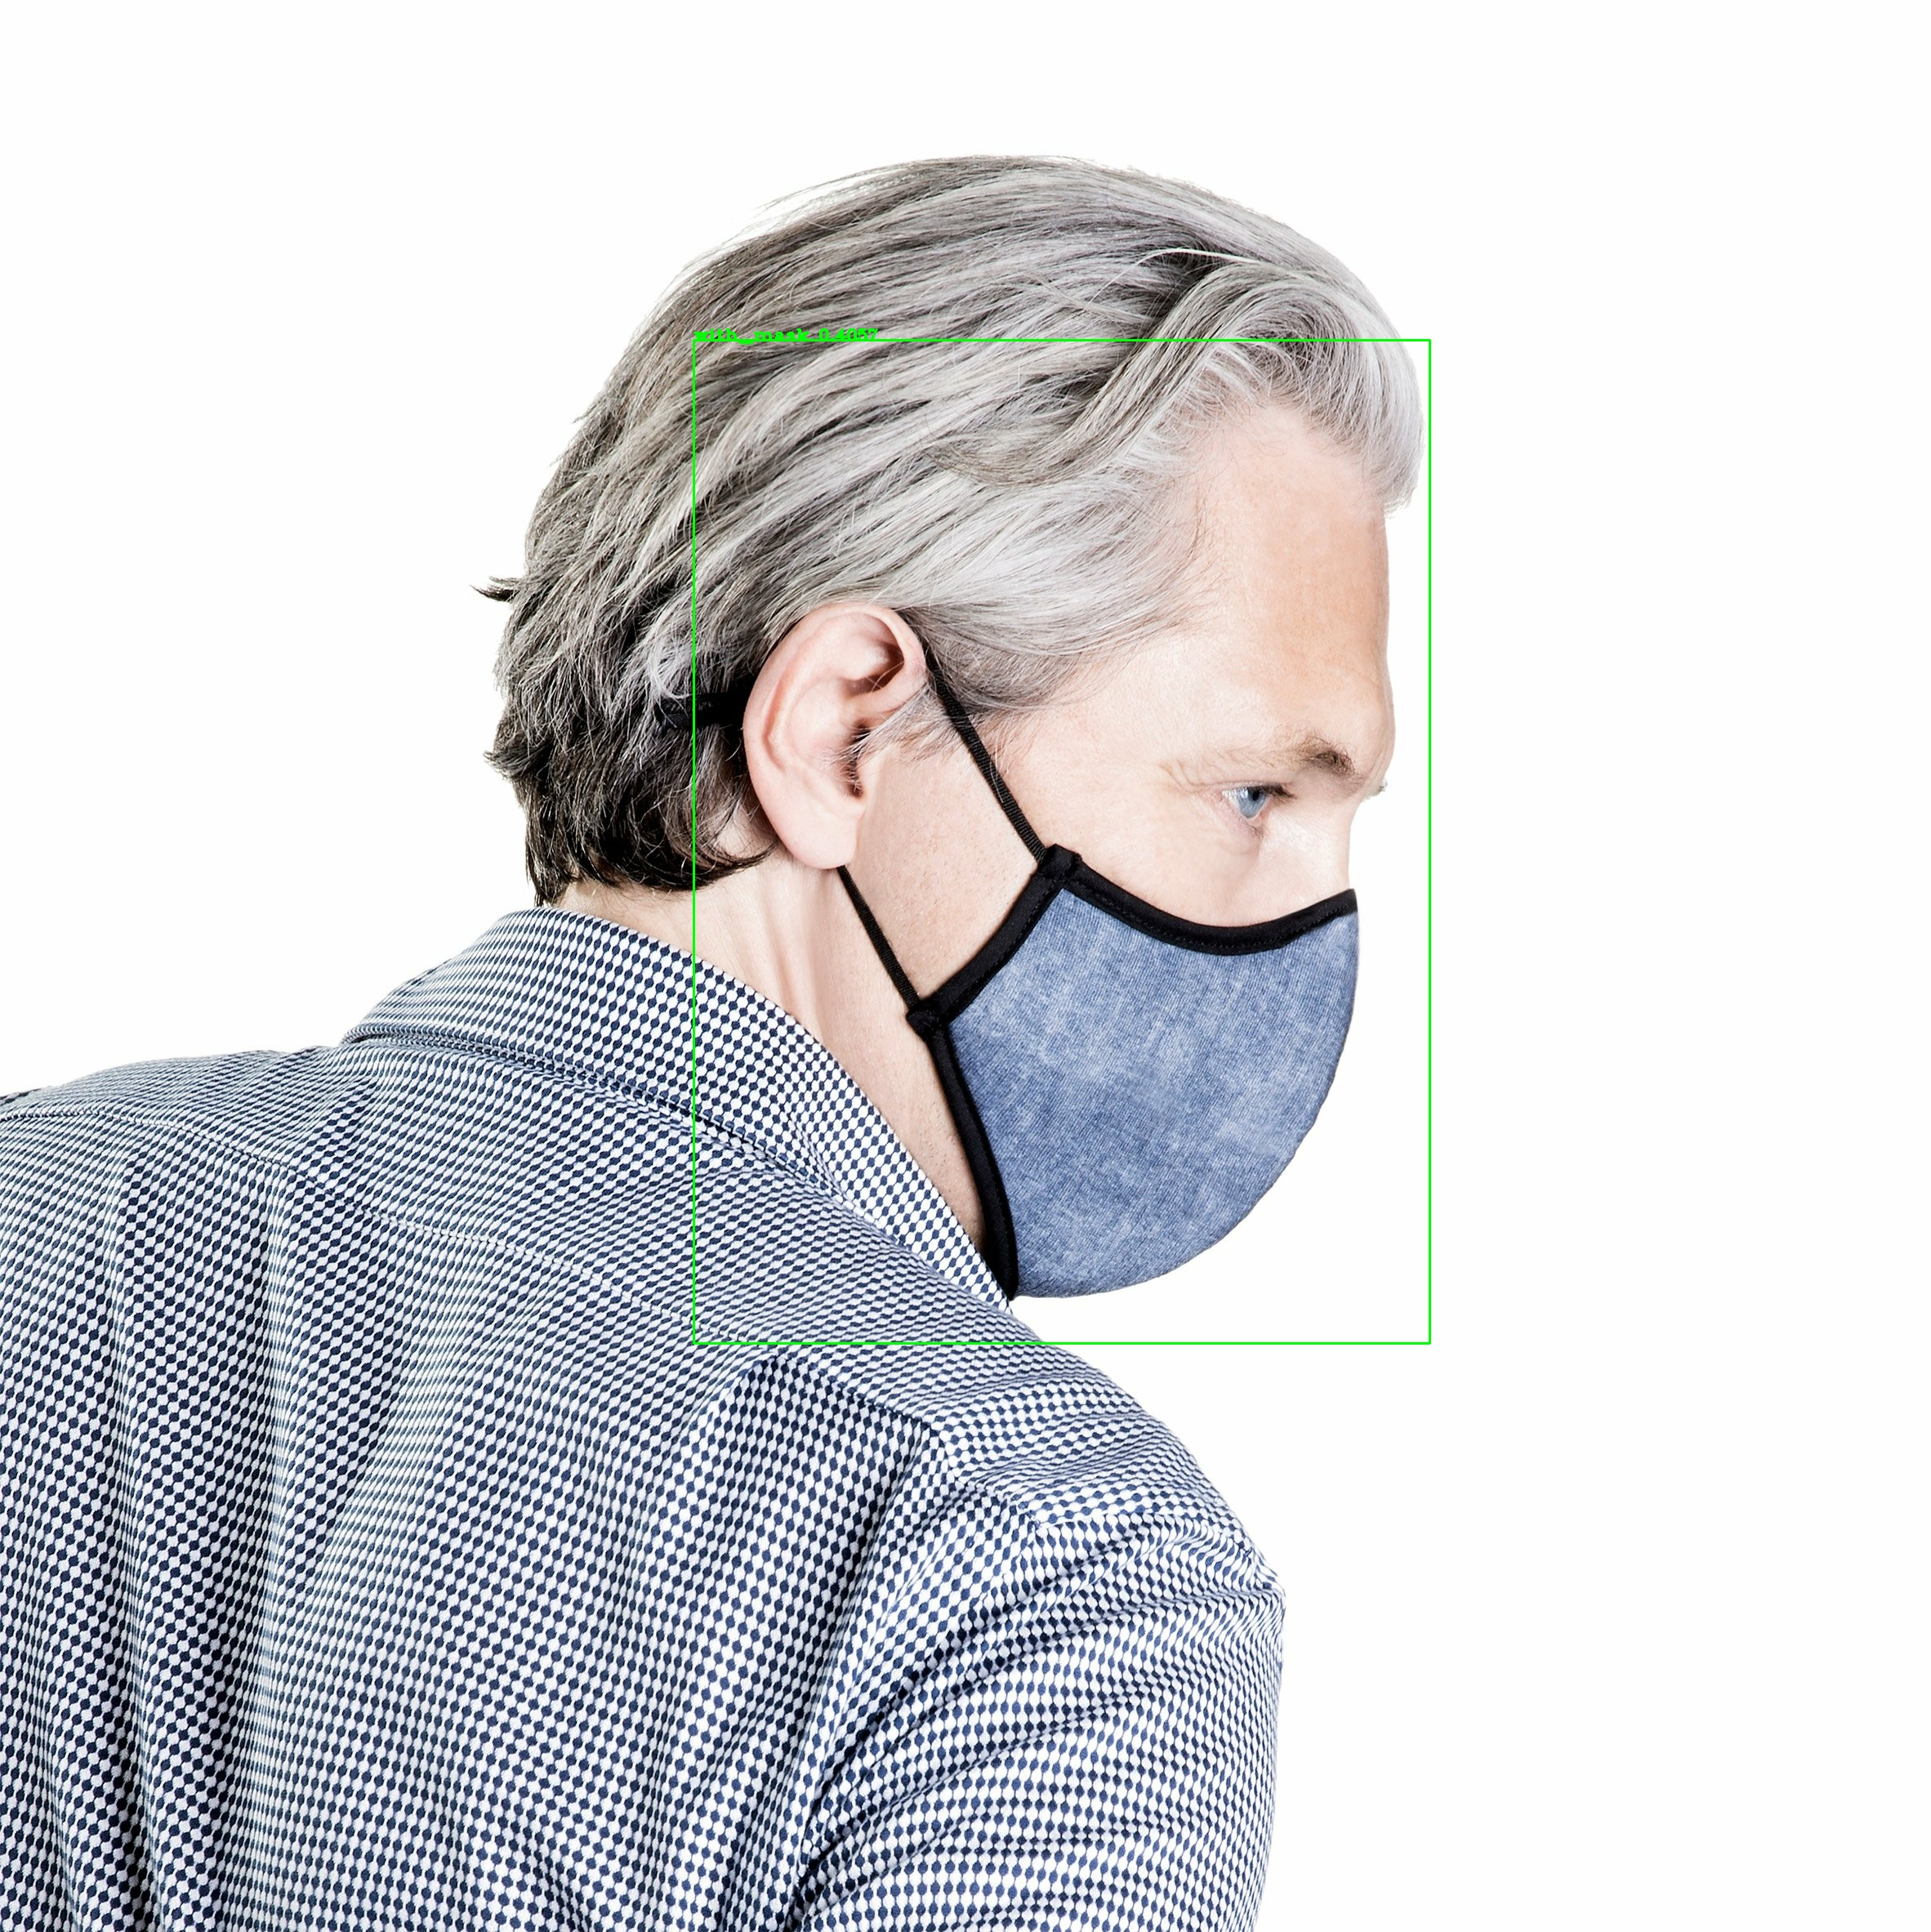with_mask: (713, 315, 1413, 1345)
